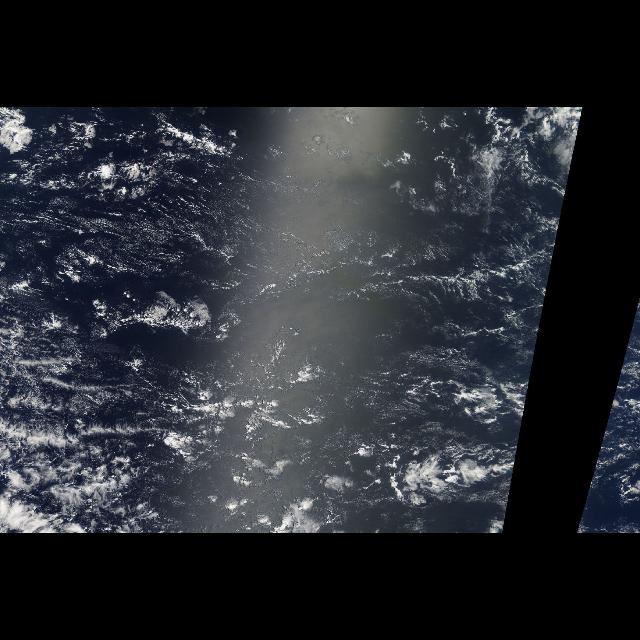Fish: (0, 382, 164, 522), (377, 450, 519, 520)
Sugar: (1, 108, 558, 316), (150, 328, 538, 437)
